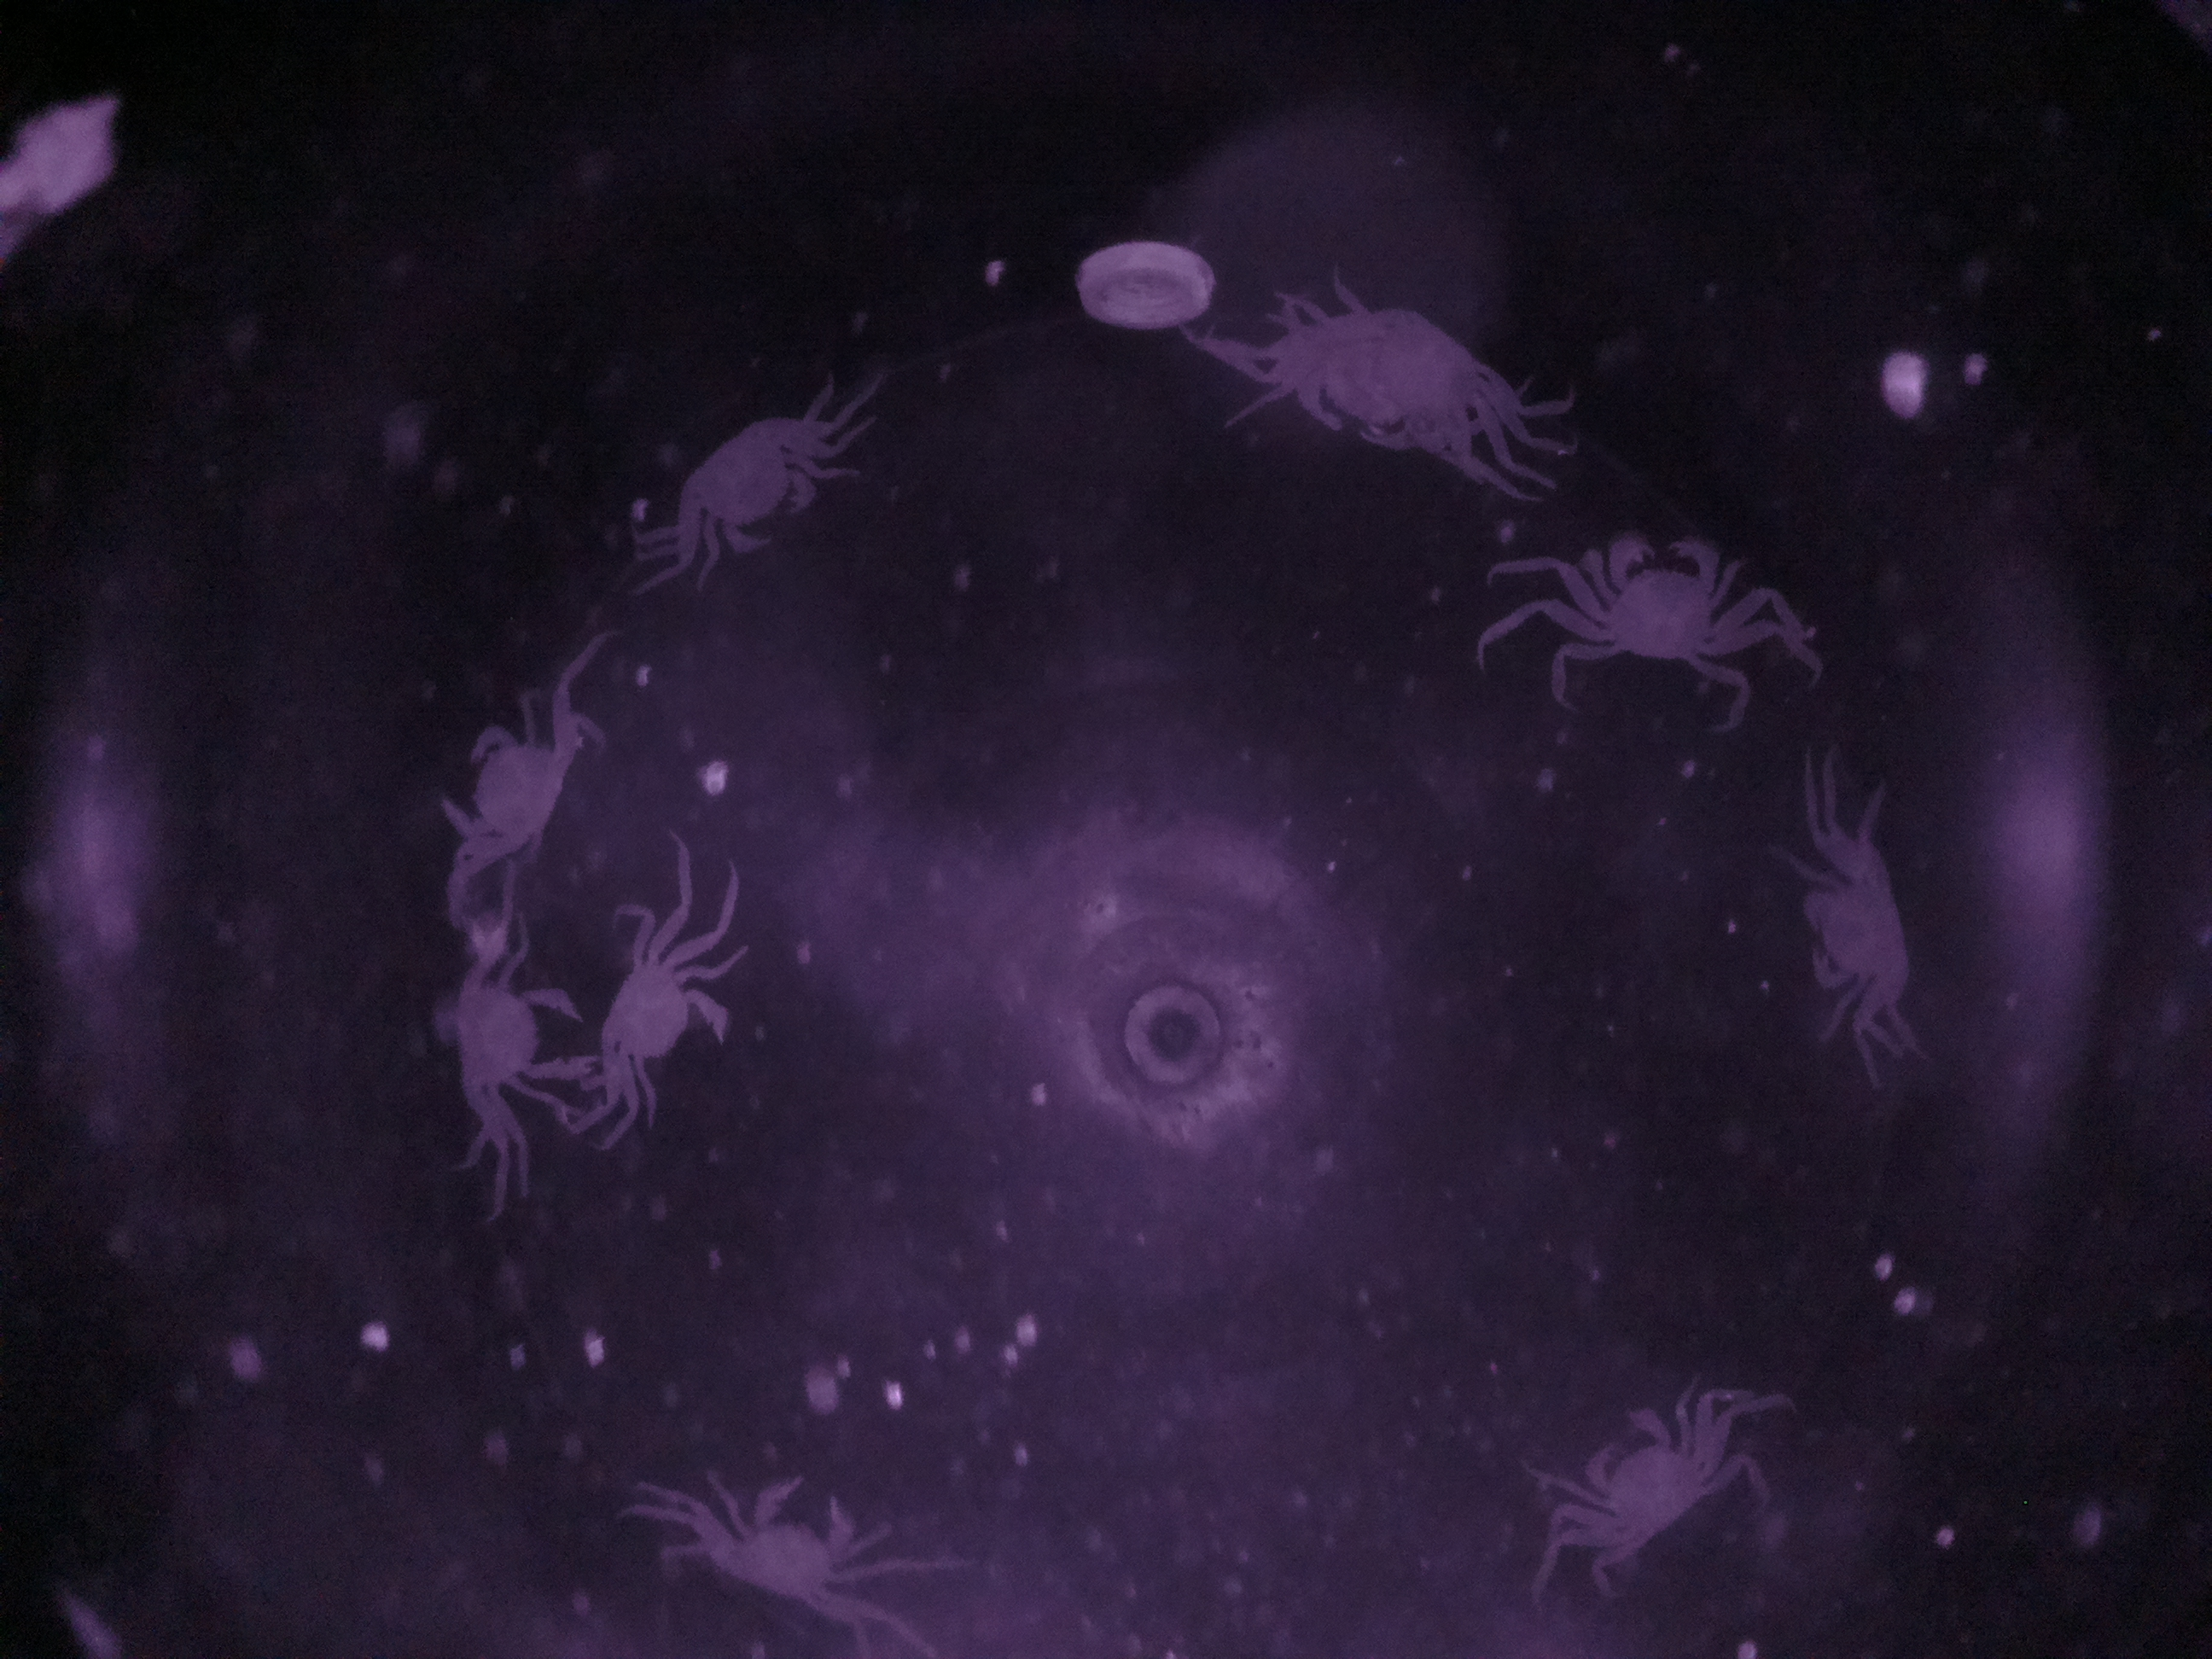Crab: (1534, 518, 1789, 673), (432, 683, 599, 906), (428, 924, 597, 1134), (1763, 835, 1944, 1030), (658, 396, 843, 577), (1557, 1389, 1723, 1589), (583, 936, 751, 1127), (705, 1455, 873, 1635)
